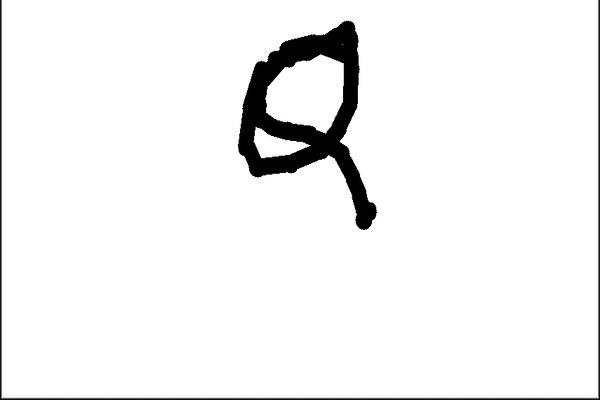Q: (220, 20, 406, 224)
